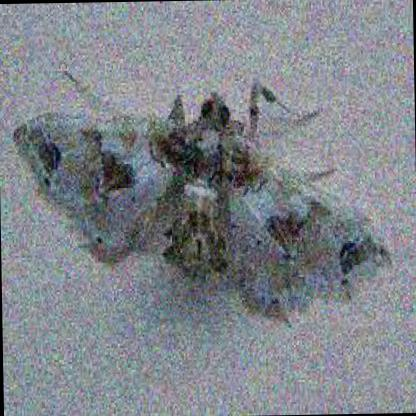leucinodes: (12, 91, 385, 314)
